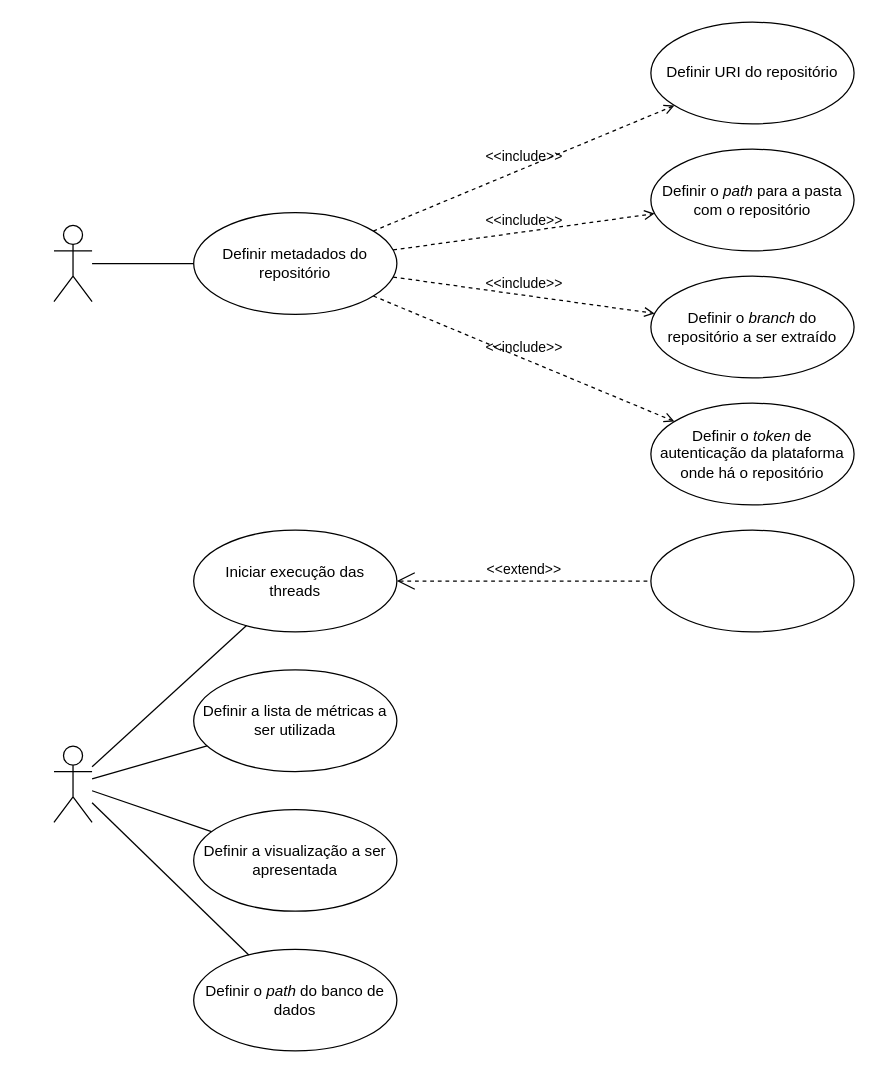
Image size: 876x1073. Some labels were removed from this diagram. The centre of each missing label's shape, as x and y in pixels:
"Definir tempo de espera entre checagens do repositório" belongs at point 752,580.
"Desenvolvedor" belongs at point 72,783.
"Usuário Final" belongs at point 72,263.
